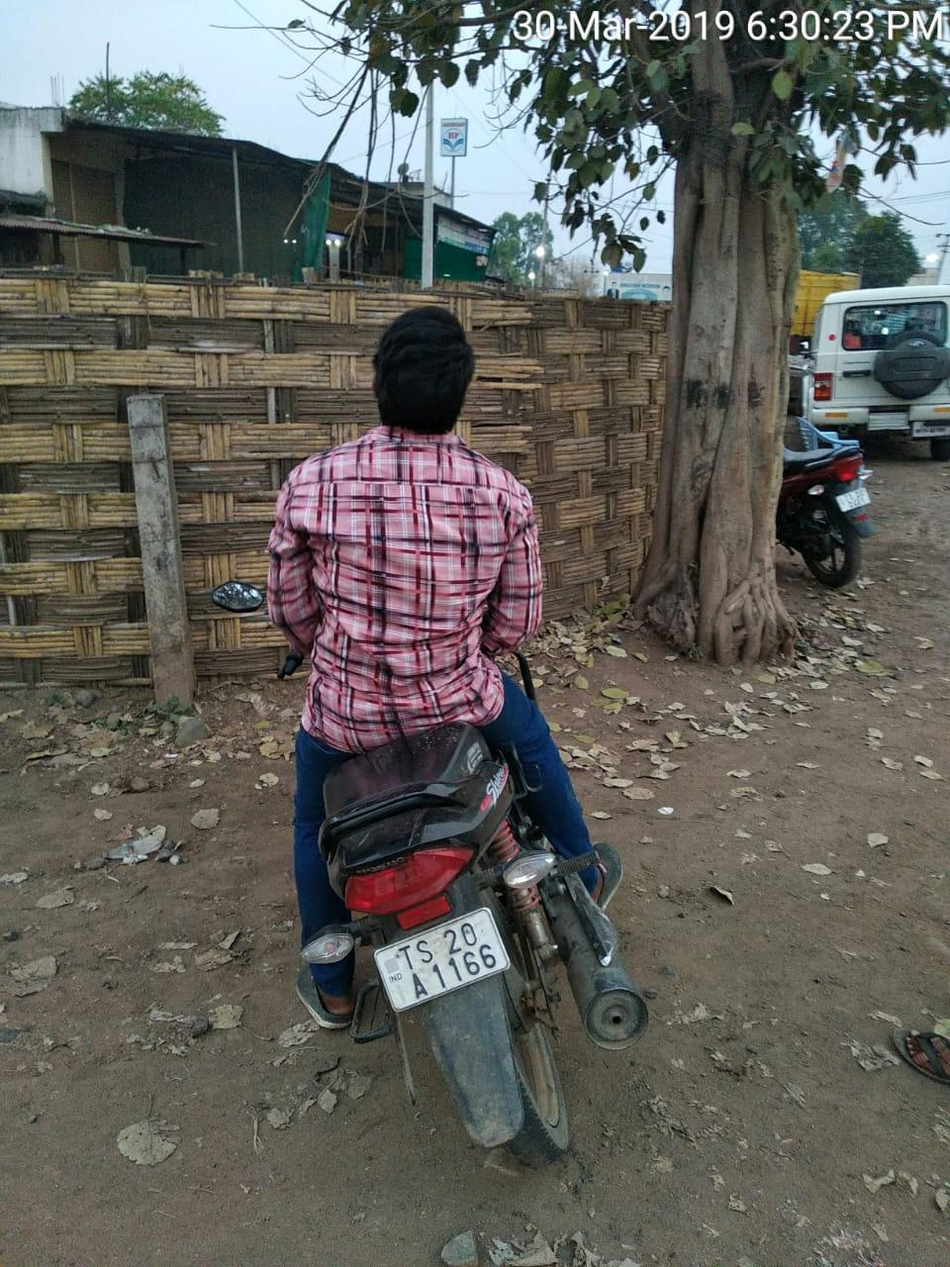plate: (355, 908, 532, 1024)
